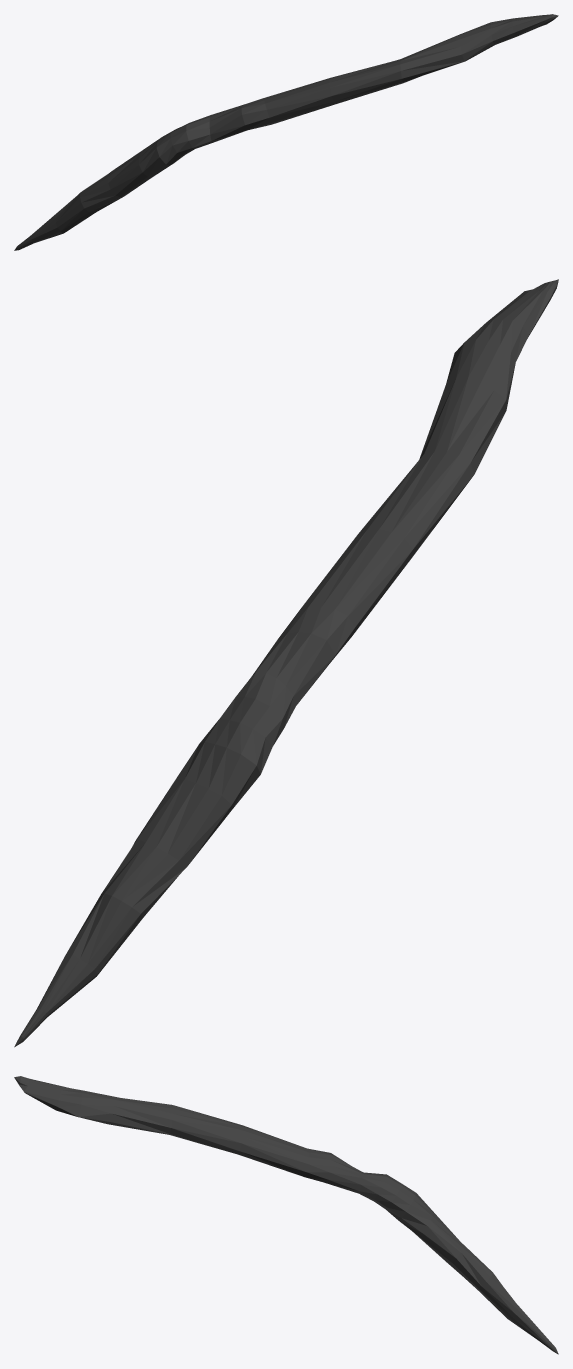
File: PsoasMajor.glb
3 renders of one model, top to bottom at view 1: azimuth 90°, elevation 25°; view 2: azimuth 150°, elevation 25°; view 3: azimuth 270°, elevation 25°, orthographic. The views are drawn at different scales.
Parts seen in each view (by area): view 1: PsoasMajor; view 2: PsoasMajor; view 3: PsoasMajor.
Part boxes in pixels (box(x1,y1,x2,y2)): PsoasMajor: box(14, 14, 558, 250); PsoasMajor: box(14, 279, 558, 1047); PsoasMajor: box(14, 1076, 558, 1354).
Bounding box in the file's own units: 1.7 × 5.75 × 11.04.
1 material, 1 textured.
